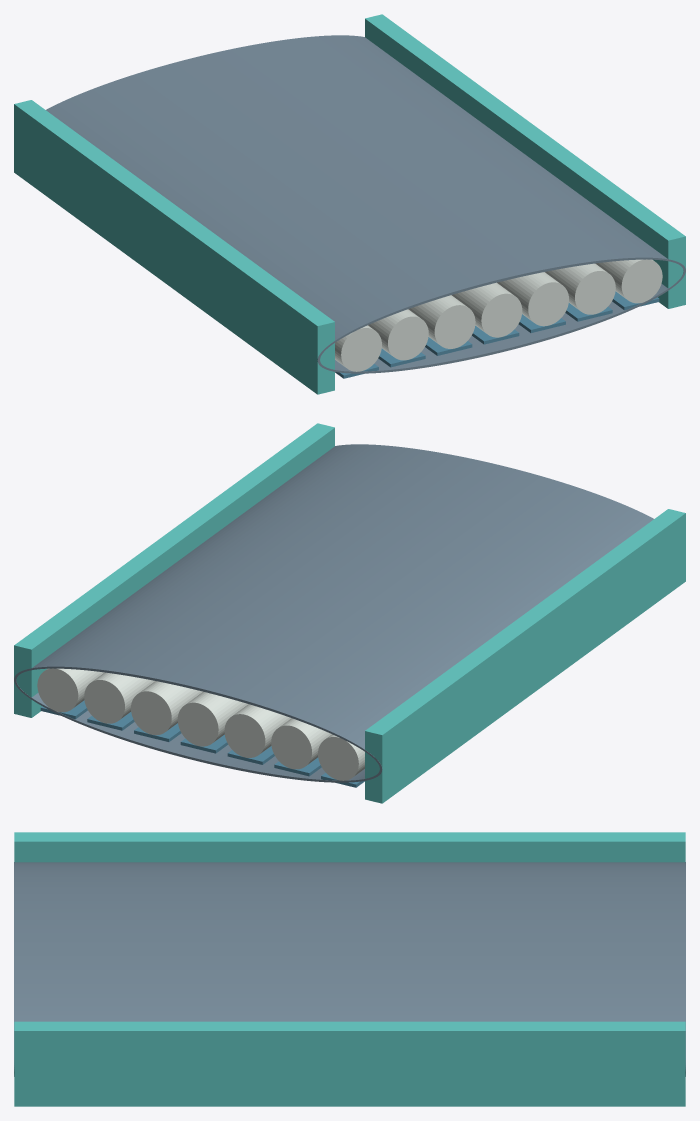
Rendered from shell_bundle.glb.
3 renders of one model, top to bottom at view 1: azimuth 30°, elevation 25°; view 2: azimuth 150°, elevation 25°; view 3: azimuth 270°, elevation 25°, orthographic. The views are drawn at different scales.
Visible parts, largest first — view 1: shell_bundle; view 2: shell_bundle; view 3: shell_bundle.
Part boxes in pixels (box(x1,y1,x2,y2)): shell_bundle: box(14, 14, 685, 394); shell_bundle: box(14, 423, 685, 803); shell_bundle: box(14, 832, 685, 1106).
Size of the model in its own units: 0.7 by 0.1333 by 1.
